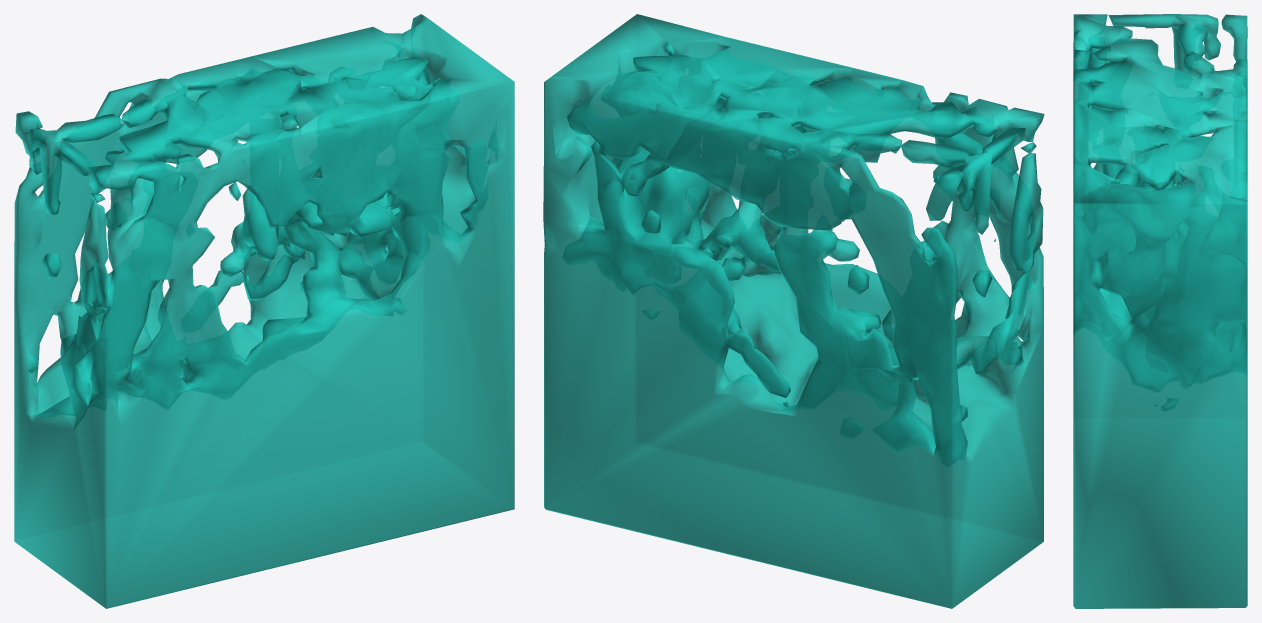
3 renders of one model, left to right at view 1: azimuth 30°, elevation 25°; view 2: azimuth 150°, elevation 25°; view 3: azimuth 270°, elevation 25°, orthographic. The views are drawn at different scales.
Visible parts, largest first — view 1: Liquid_Domain; view 2: Liquid_Domain; view 3: Liquid_Domain.
Boxes of the visible parts, x1,y1,x2,y2 form: Liquid_Domain: (14, 14, 514, 608); Liquid_Domain: (543, 14, 1044, 608); Liquid_Domain: (1073, 14, 1247, 608).
Size of the model in its own units: 1965 by 1965 by 766.
